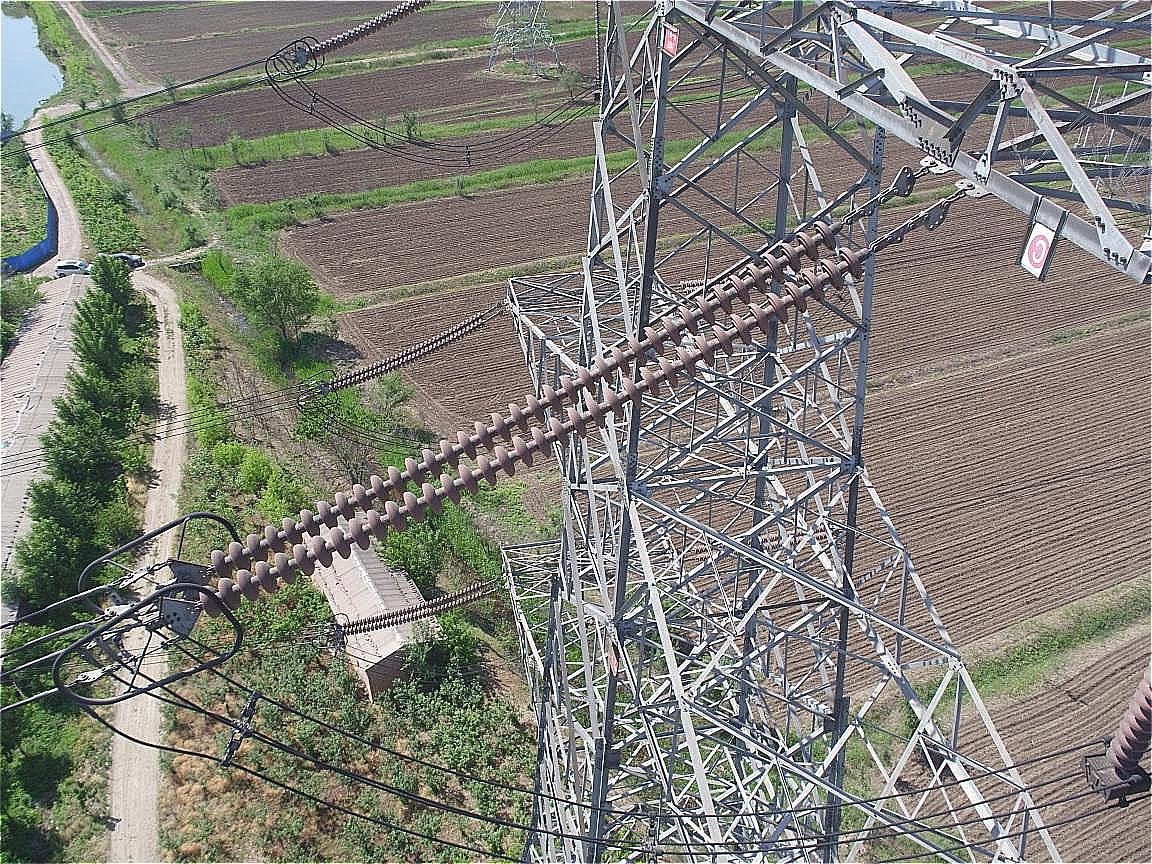insultor1: (196, 218, 864, 617)
